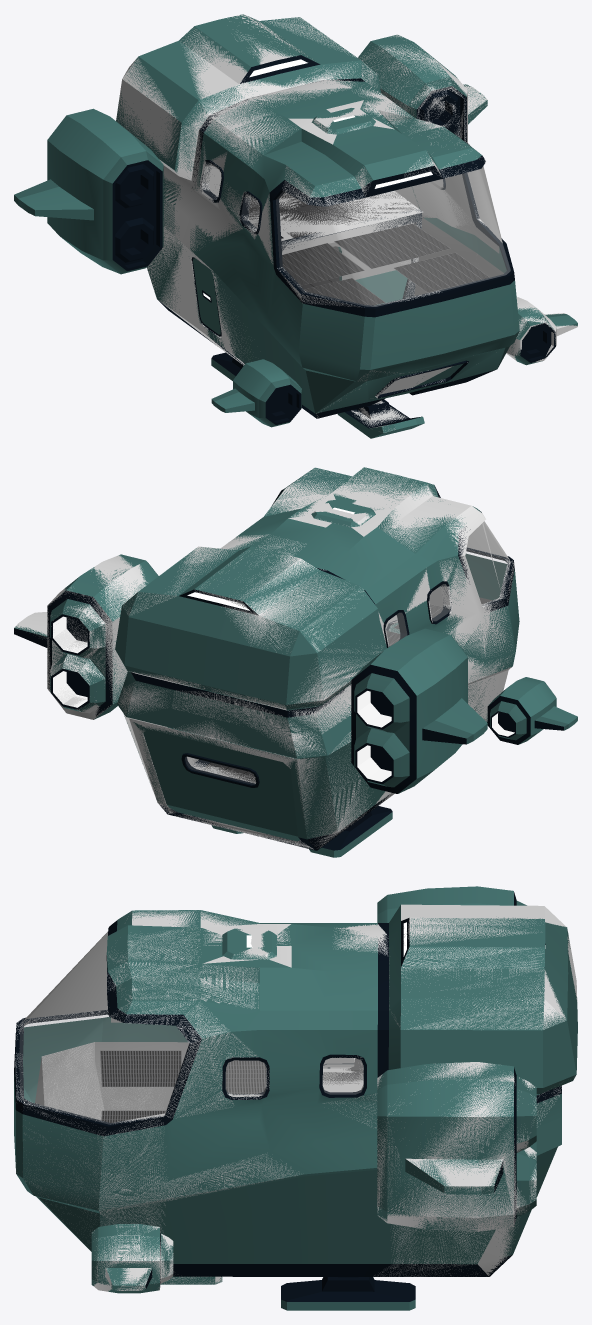
File: zamboni-exterior.glb
The picture shows the model from 3 angles, top to bottom: view 1: azimuth 30°, elevation 25°; view 2: azimuth 150°, elevation 25°; view 3: azimuth 270°, elevation 25°; orthographic projection. The views are drawn at different scales.
Parts seen in each view (by area): view 1: Hull_Merged, zamboni_col, Windshield, Turbine Right, Floor Top.001, Turbine Left, Turbine.002, Bulkhead Cargo, Turbine.001, Landing Gear Front, Door, Top Hatch (+1 smaller); view 2: Hull_Merged, zamboni_col, Turbine Right, Door Cargo, Turbine Left, Turbine.002, Windshield, Landing Gear Back Right, Top Hatch, Floor Bottom; view 3: Hull_Merged, zamboni_col, Turbine Left, Windshield, Floor Top.001, Turbine.001, Landing Gear Back Left, Turbine Right, Top Hatch.
Boxes of the visible parts, x1,y1,x2,y2 form: Hull_Merged: (116, 14, 519, 418); zamboni_col: (116, 14, 577, 432); Windshield: (276, 166, 510, 306); Turbine Right: (14, 108, 163, 274); Floor Top.001: (212, 165, 489, 305); Turbine Left: (358, 35, 487, 141); Turbine.002: (211, 359, 301, 427); Bulkhead Cargo: (281, 213, 423, 305); Turbine.001: (509, 307, 577, 365); Landing Gear Front: (337, 399, 424, 438); Door: (192, 257, 221, 336); Top Hatch: (311, 108, 375, 134); Hull_Merged: (115, 467, 519, 850); zamboni_col: (15, 467, 514, 849); Turbine Right: (351, 628, 487, 793); Door Cargo: (143, 729, 299, 841); Turbine Left: (14, 554, 158, 719); Turbine.002: (487, 677, 577, 744); Windshield: (465, 521, 510, 605); Landing Gear Back Right: (309, 806, 392, 857); Top Hatch: (311, 500, 375, 527); Floor Bottom: (171, 759, 300, 841); Hull_Merged: (14, 905, 577, 1276); zamboni_col: (15, 904, 577, 1291); Turbine Left: (377, 1062, 536, 1231); Windshield: (19, 932, 188, 1124); Floor Top.001: (100, 1050, 363, 1122); Turbine.001: (91, 1224, 173, 1293); Landing Gear Back Left: (281, 1277, 415, 1310); Turbine Right: (377, 886, 526, 922); Top Hatch: (222, 928, 276, 959).
Size of the model in its own units: 7.2 by 4.37 by 6.54.
11 materials, 2 textured.
